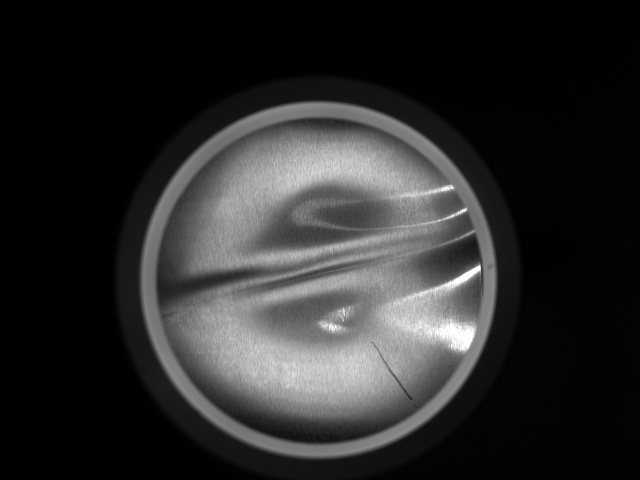ca_shang: (367, 335, 416, 403)
zhe_zhou: (199, 143, 432, 412)
